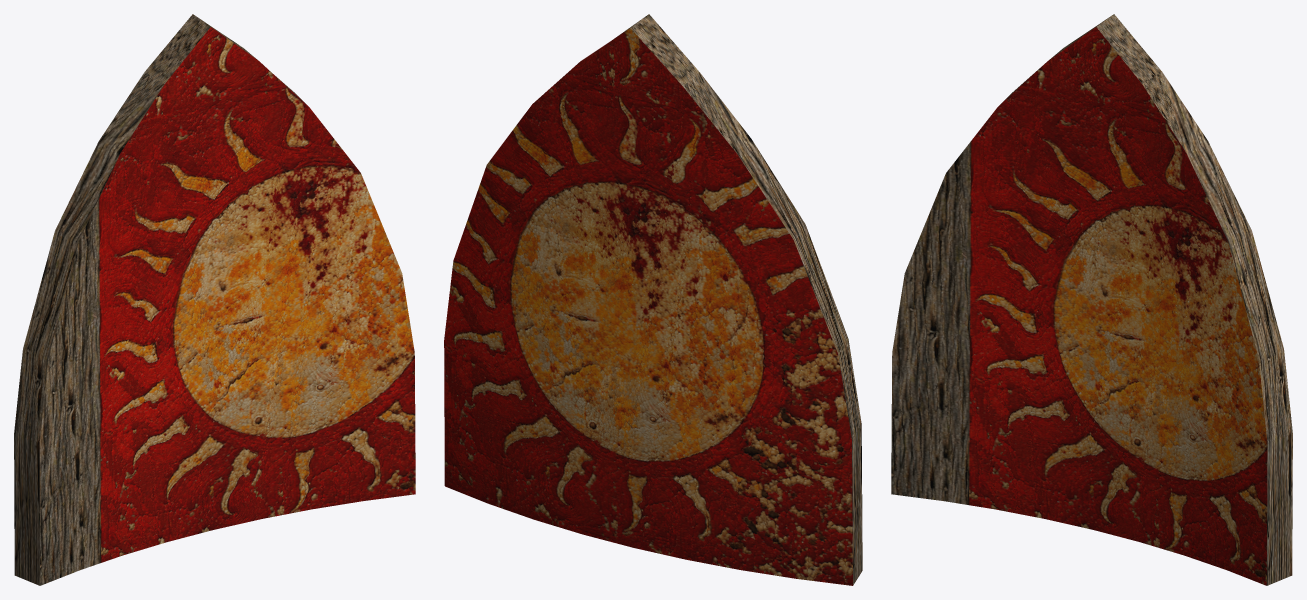
File: mm9_deco_shield3.glb
The picture shows the model from 3 angles, left to right: view 1: azimuth 30°, elevation 25°; view 2: azimuth 150°, elevation 25°; view 3: azimuth 330°, elevation 25°; orthographic projection. The views are drawn at different scales.
Visible parts, largest first — view 1: Shield3; view 2: Shield3; view 3: Shield3.
Boxes of the visible parts, box(x1,y1,x2,y2) form: Shield3: box(14, 14, 415, 585); Shield3: box(444, 14, 862, 585); Shield3: box(891, 14, 1292, 585).
Size of the model in its own units: 0.9023 by 1.1 by 0.1404.
Materials: 1 (1 with a texture image).
